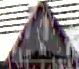Speed Breaker ahead: (2, 0, 78, 68)
